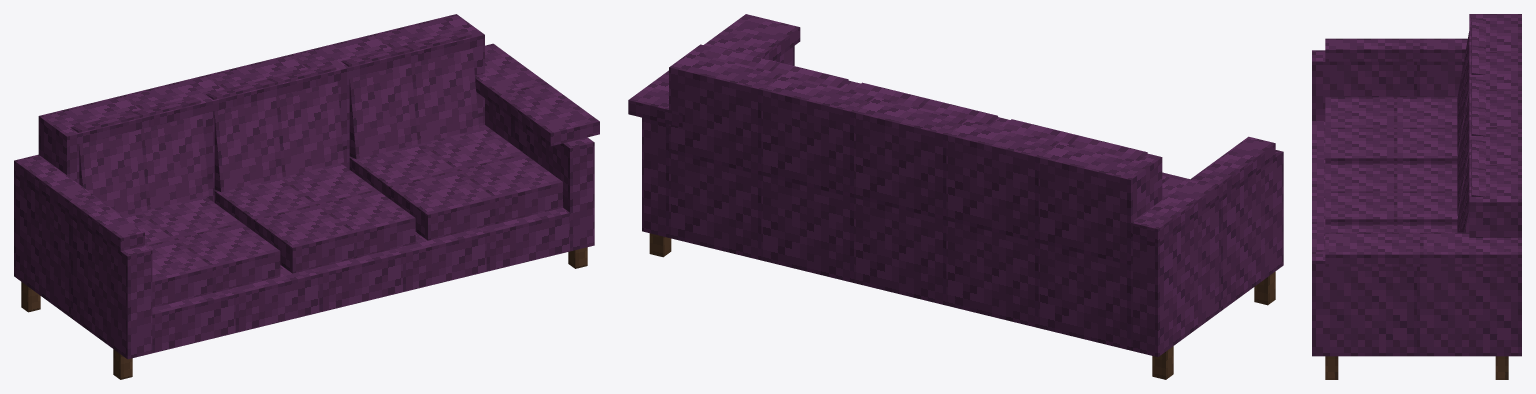
Rendered from loungeCouchWide_5.glb.
3 views of the same model, side by side, from view 1: azimuth 30°, elevation 25°; view 2: azimuth 150°, elevation 25°; view 3: azimuth 270°, elevation 25° (orthographic). The views are drawn at different scales.
Visible parts, largest first — view 1: loungeCouchWide_5; view 2: loungeCouchWide_5; view 3: loungeCouchWide_5.
Boxes of the visible parts, left/top/right/bottom form: loungeCouchWide_5: left=14, top=14, right=599, bottom=379; loungeCouchWide_5: left=628, top=14, right=1283, bottom=379; loungeCouchWide_5: left=1312, top=14, right=1521, bottom=379.
Size of the model in its own units: 2.44 by 0.886 by 1.
Materials: 1 (1 with a texture image).
